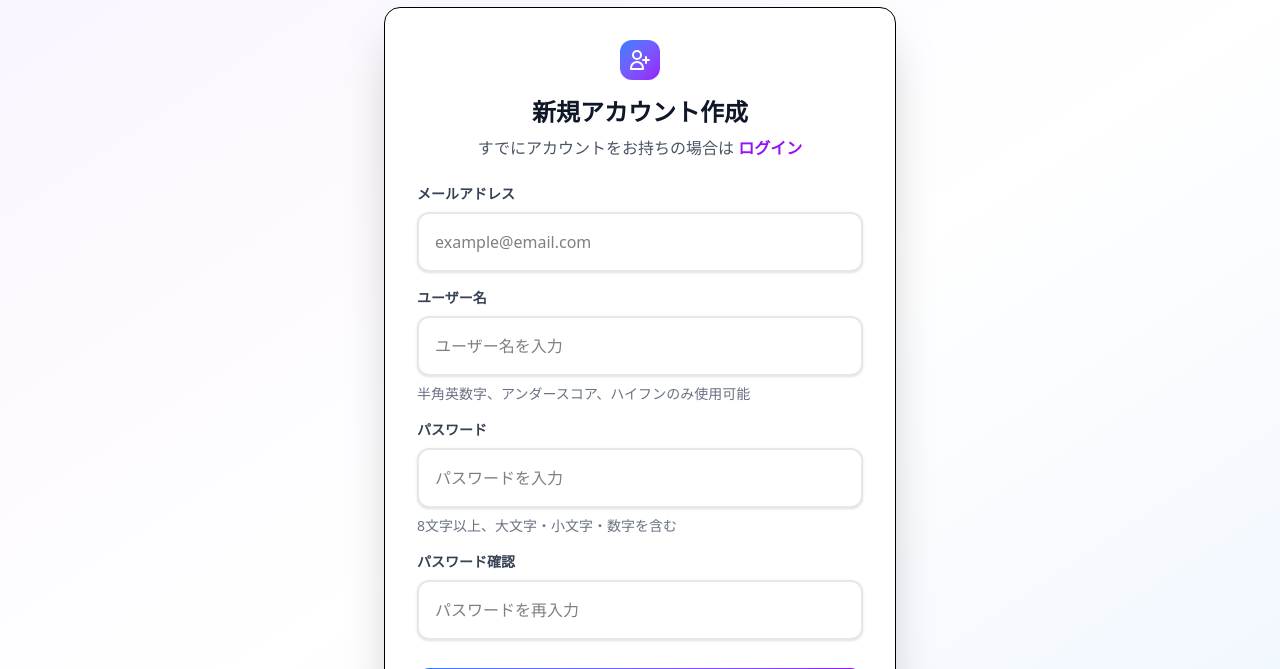
RegisterForm Component › validates username format
The image size is (1280, 669).
Note: Enter invalid username with special characters
Type "user@name!" into the field labelled "ユーザー名" at (640, 346), box [417, 316, 863, 376]
(page scrolled)
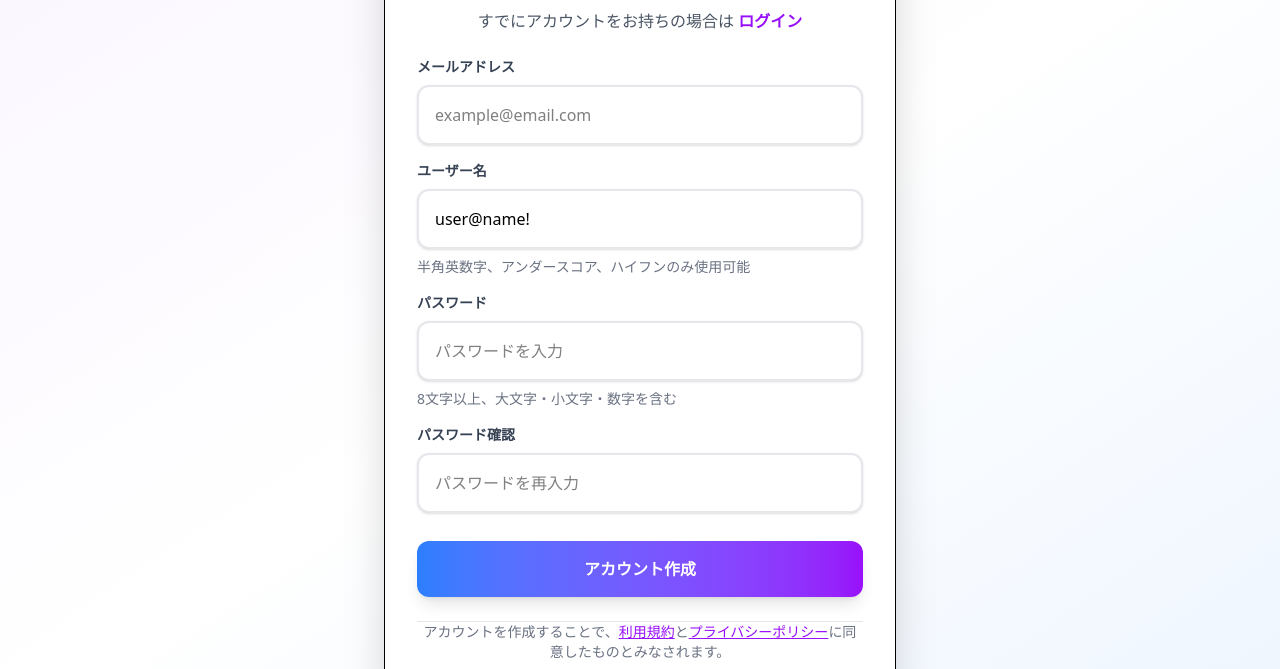
Click the button "アカウント作成" at (640, 569), box [417, 541, 863, 597]
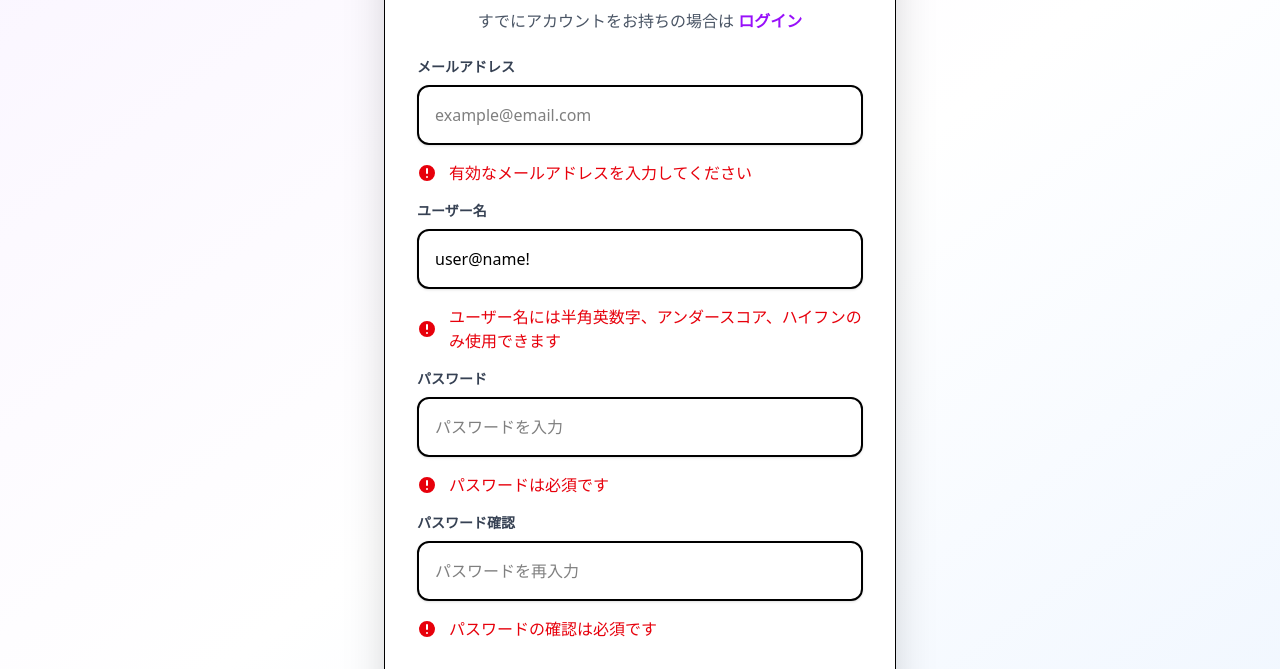
Expected: the text "ユーザー名には半角英数字、アンダースコア、ハイフンのみ使用できます" is shown, [417, 305, 863, 353]
